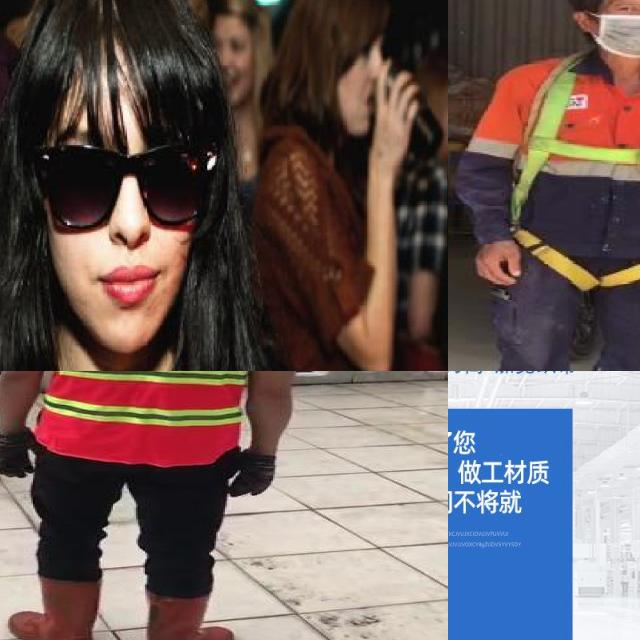boots: (8, 575, 102, 640), (139, 590, 237, 640)
face_mask: (598, 0, 640, 60)
face_nomask: (35, 142, 203, 324)
glasses: (34, 121, 209, 232)
hand_glove: (228, 454, 274, 497), (0, 434, 45, 477)
hand_noglove: (370, 63, 428, 151), (471, 232, 525, 286)
head_nohelmet: (23, 0, 211, 92), (277, 0, 399, 51)
person: (0, 0, 330, 371), (0, 371, 322, 640), (250, 0, 432, 371), (465, 0, 640, 371)
vest: (41, 371, 276, 462)
